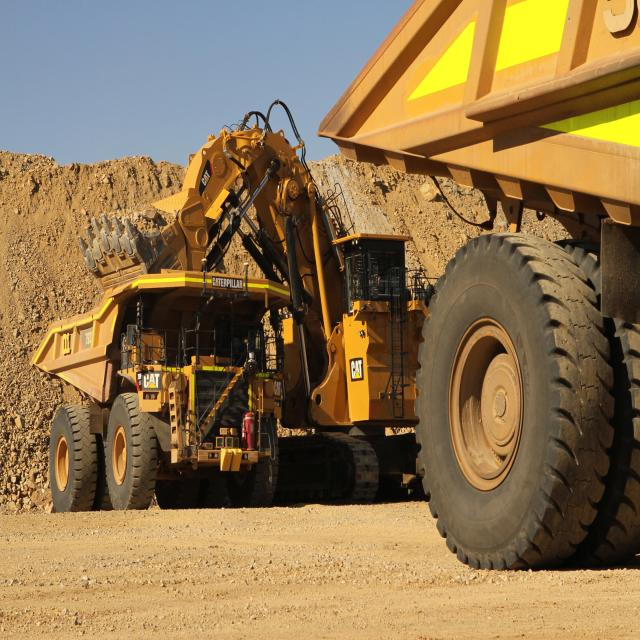dump_truck: (319, 4, 640, 591), (20, 264, 298, 537)
excavator: (66, 88, 465, 519)
